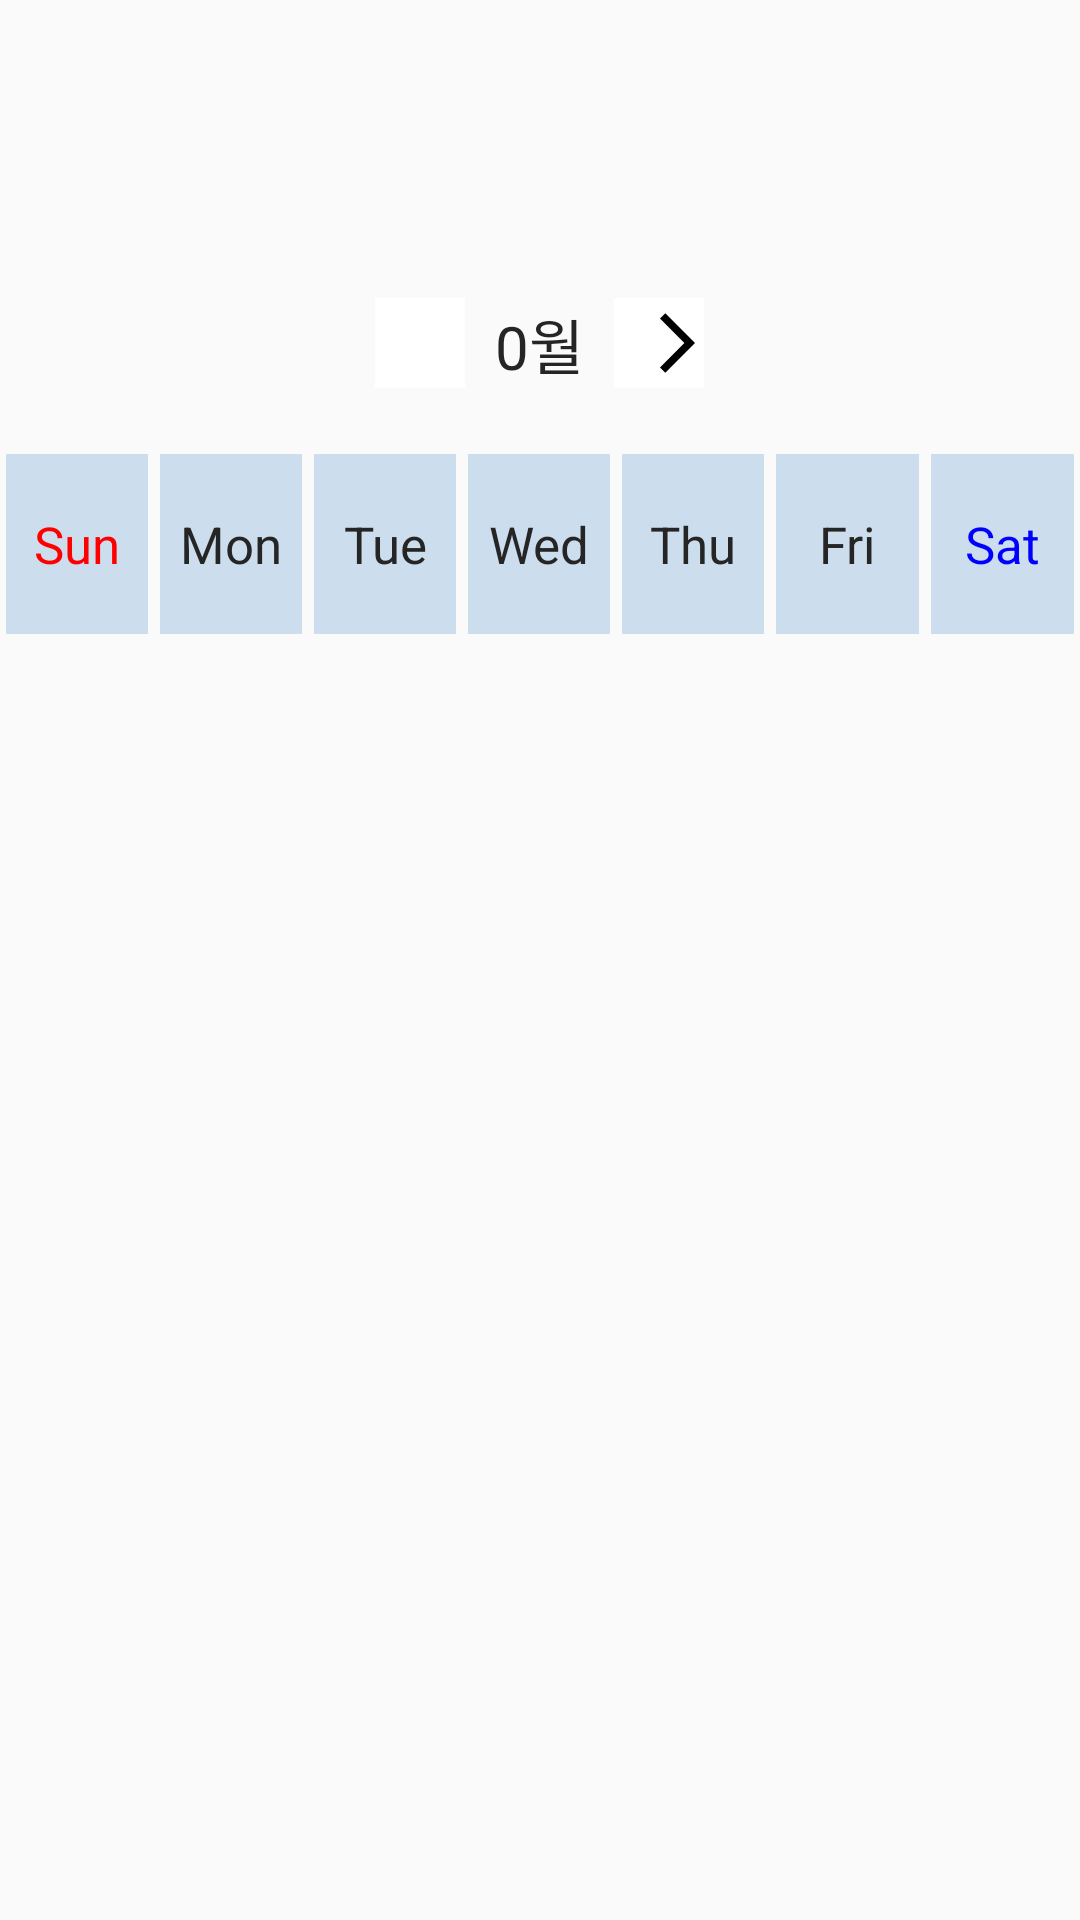

Screen size 1080w x 1920h. Icon name, then its box in pixels as (x1, y1, x2, y2):
opposite baseline arrow: (660, 313, 695, 373)
